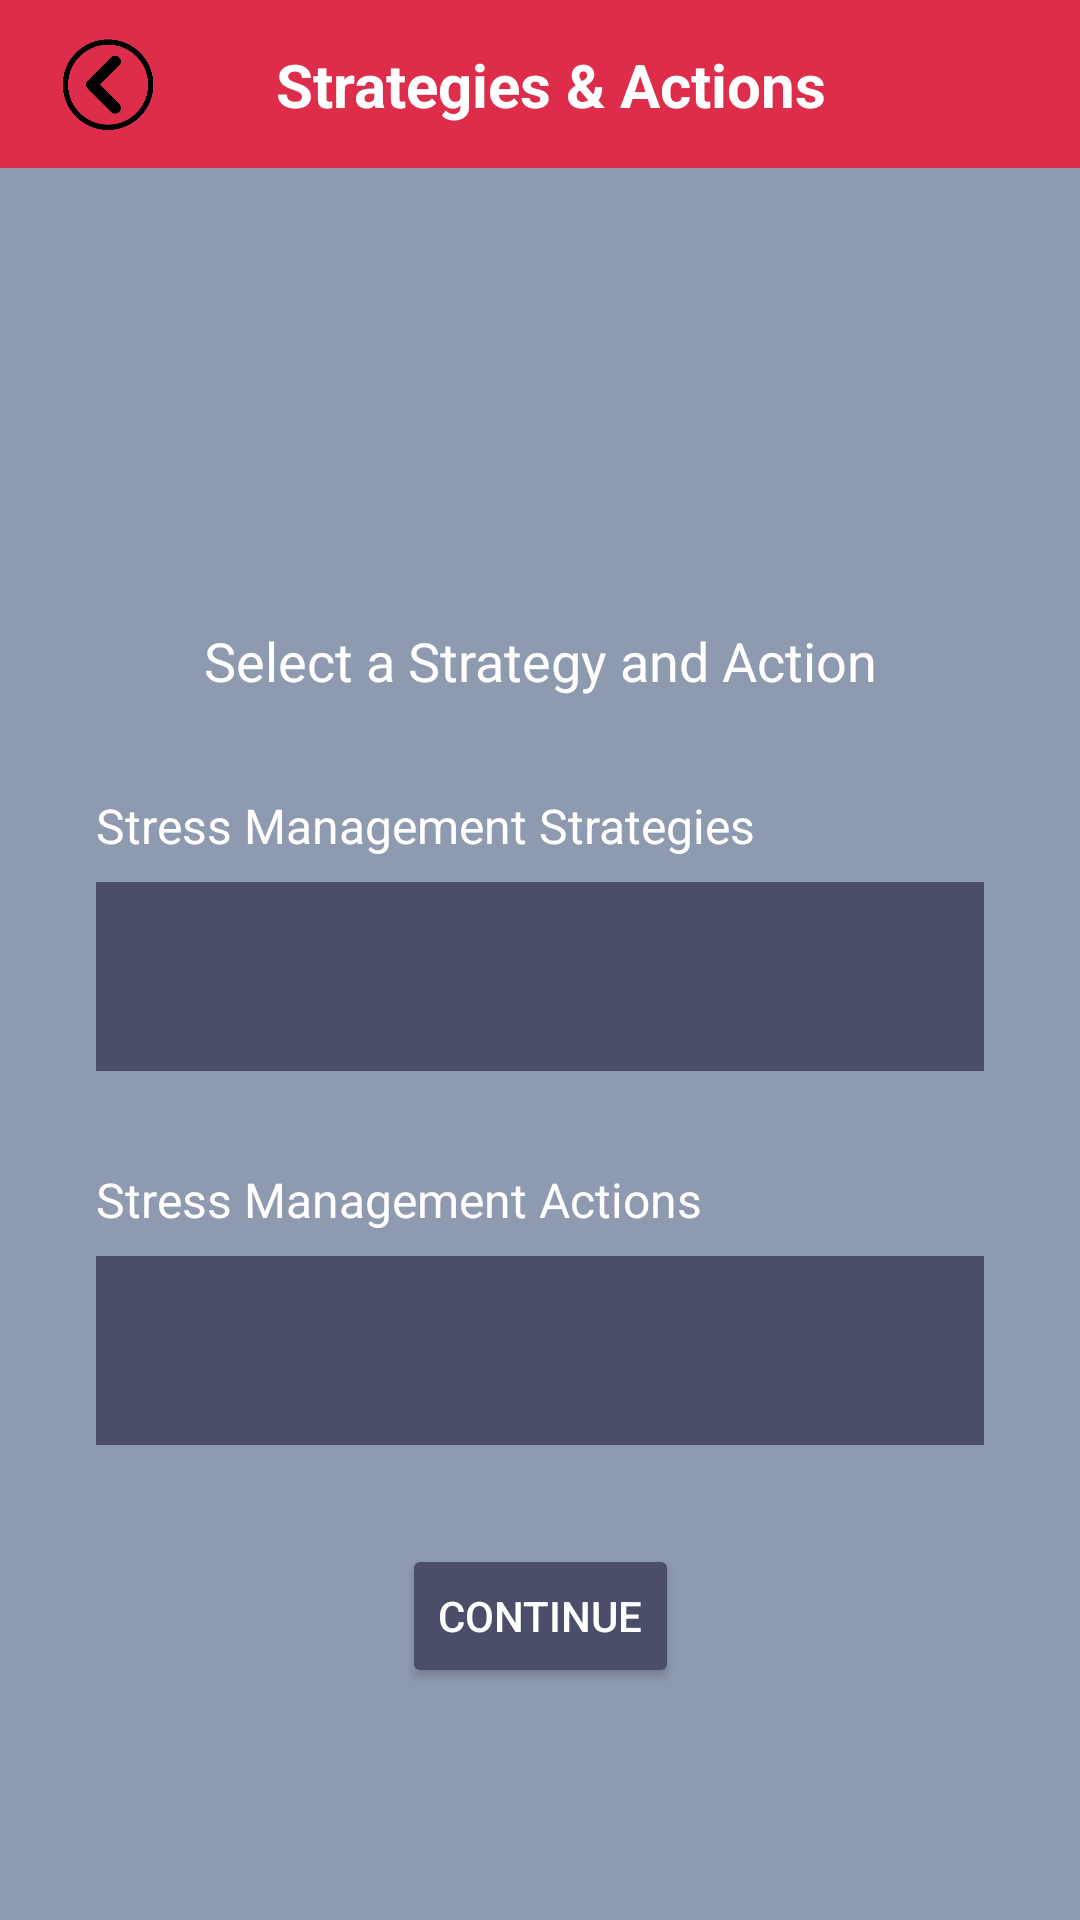

Where icons sit on this 1080 x 1920 app screen, as detection(x1, y1, x2, y2):
Back: detection(63, 39, 153, 130)
